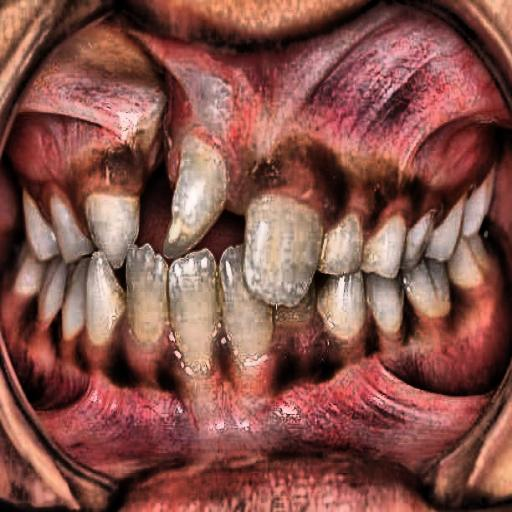Gingivitis: (183, 63, 451, 226), (28, 100, 162, 198)
